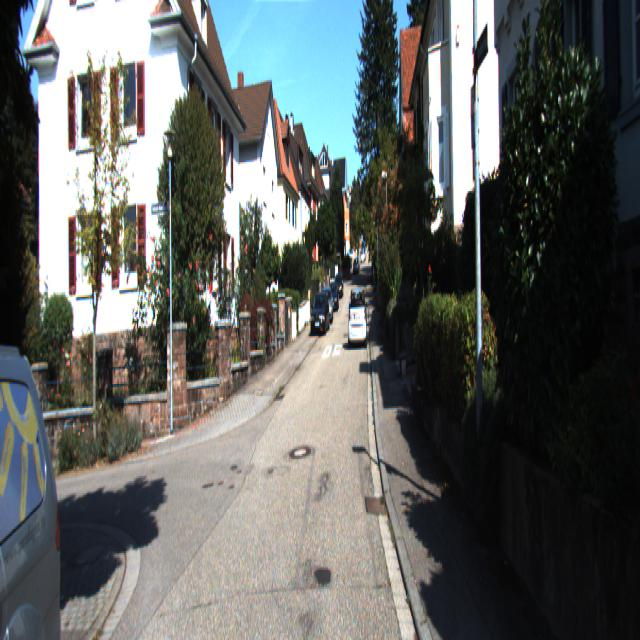Car: (0, 345, 87, 638), (348, 290, 368, 352), (309, 289, 330, 334)
